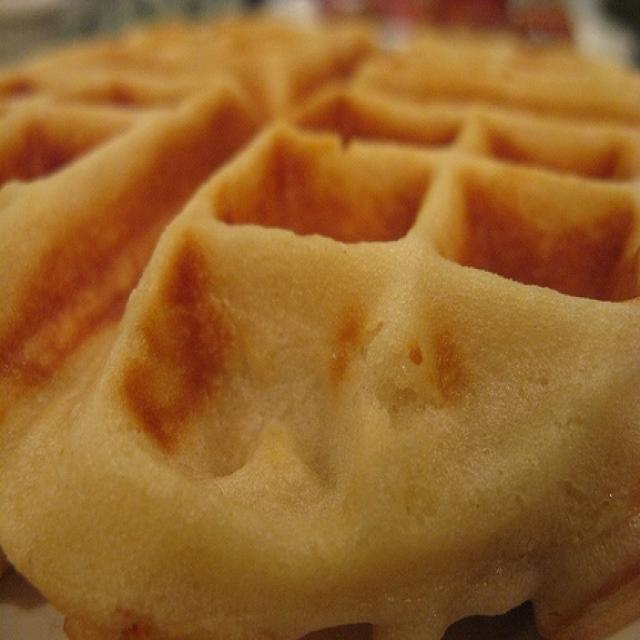炸货点心: (1, 10, 636, 624)
蛋糕甜品: (1, 10, 636, 624)
